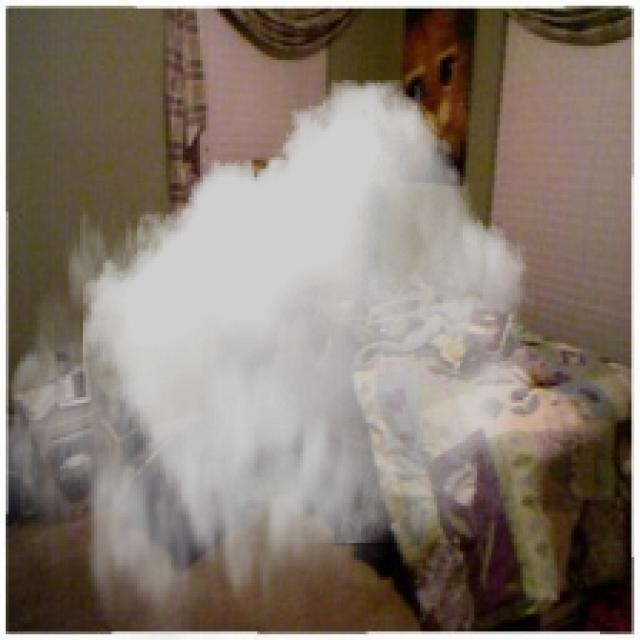smoke: (6, 80, 537, 637)
